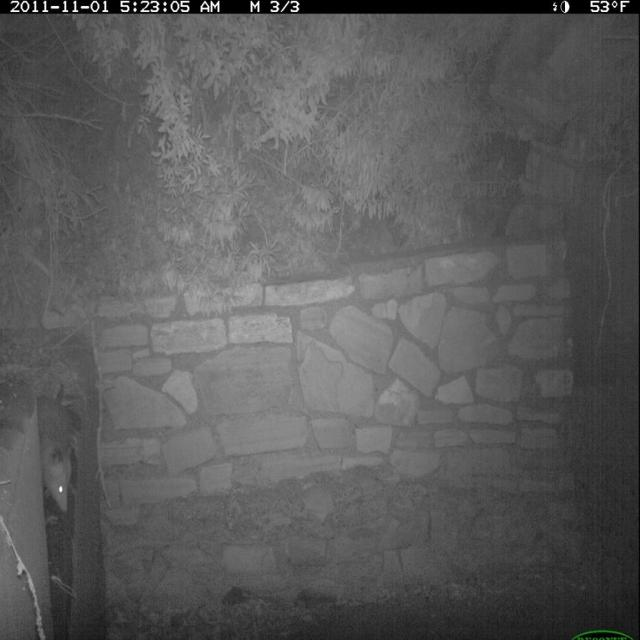opossum: (29, 374, 95, 532)
